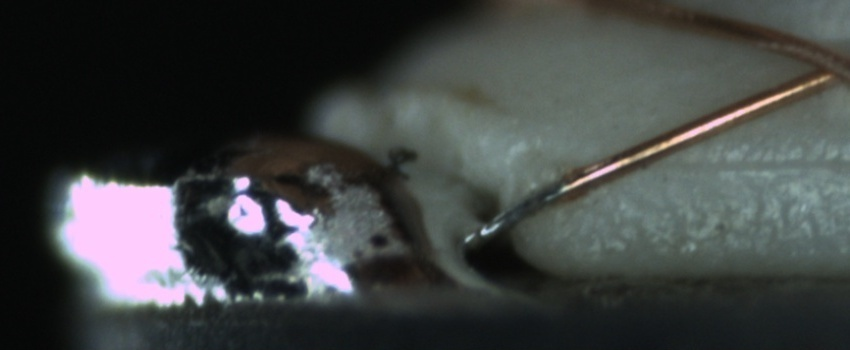CL: (777, 30, 850, 96)
DL: (649, 132, 847, 196)
TS: (470, 180, 563, 244)
TTCW: (460, 162, 600, 249)
